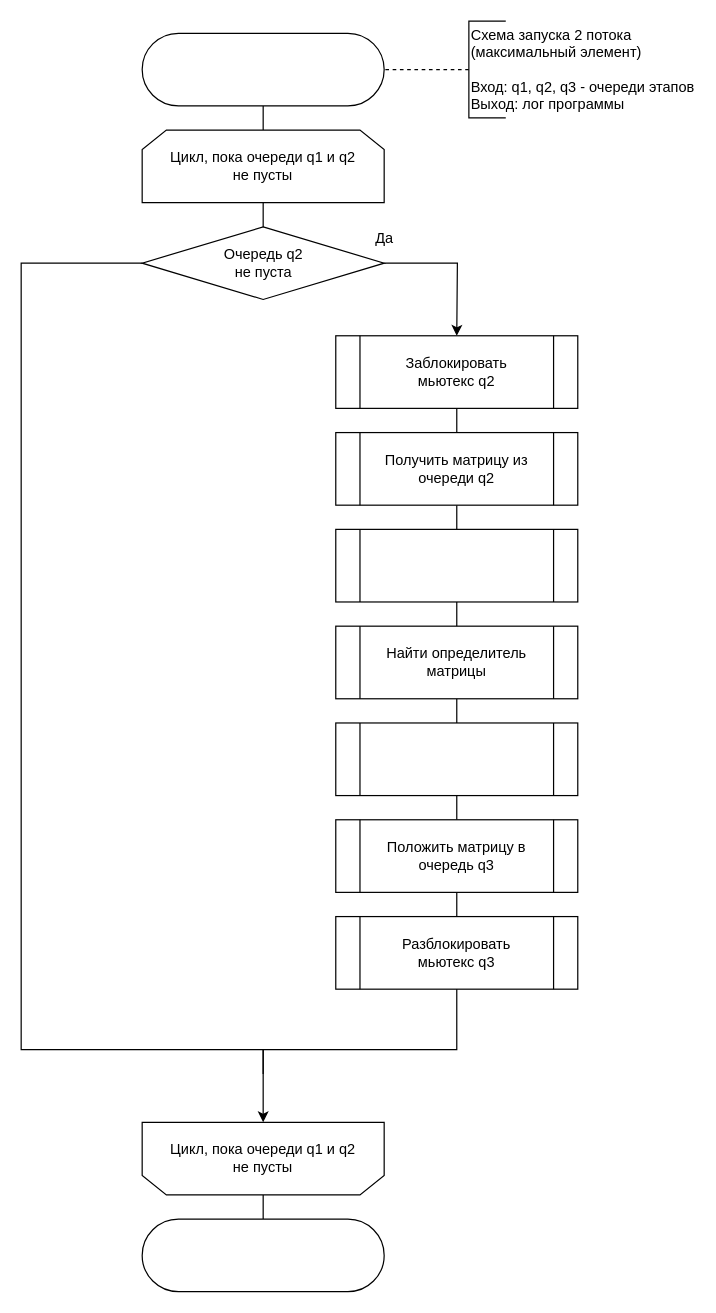
This 716x1313 diagram has some shape labels left out. Each missing label, with the centre of its shape:
"Заблокировать мьютекс q3" belongs at point (456, 759).
"Конец" belongs at point (262, 1255).
"Начало" belongs at point (262, 69).
"Разблокировать мьютекс q2" belongs at point (456, 565).
